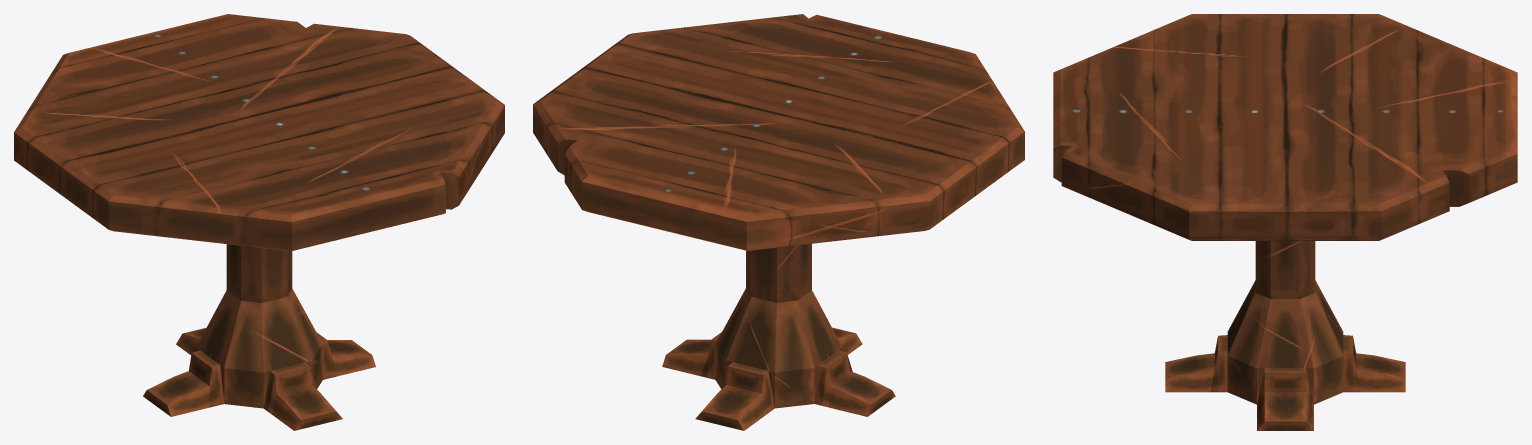
Rendered from Table.fbx.
The picture shows the model from 3 angles, left to right: view 1: azimuth 30°, elevation 25°; view 2: azimuth 150°, elevation 25°; view 3: azimuth 270°, elevation 25°; orthographic projection.
Visible parts, largest first — view 1: Top, Bottom, Body, Foot3, Foot4, Foot1; view 2: Top, Bottom, Body, Foot2, Foot4, Foot1; view 3: Top, Bottom, Body, Foot1, Foot2, Foot3.
Part boxes in pixels (x1,y1,x2,y2): Top: (14,14,504,251); Bottom: (196,288,322,408); Body: (226,244,292,302); Foot3: (263,362,342,430); Foot4: (143,350,224,416); Foot1: (316,332,375,379); Top: (533,14,1024,250); Bottom: (715,288,842,408); Body: (746,243,811,302); Foot2: (695,362,774,430); Foot4: (814,350,895,416); Foot1: (662,332,721,379); Top: (1053,14,1517,240); Bottom: (1227,280,1343,404); Body: (1255,241,1315,298); Foot1: (1257,368,1313,430); Foot2: (1343,335,1405,392); Foot3: (1165,335,1227,392).
Bounding box in the file's own units: 635 × 409 × 635.
